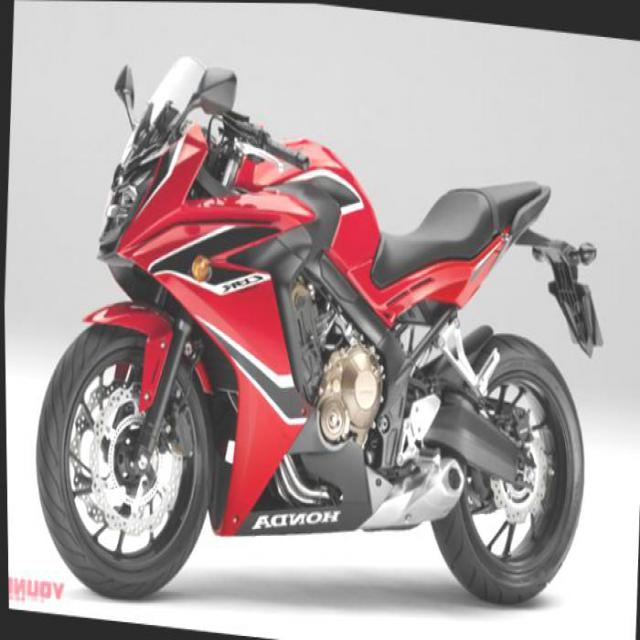CBR650R: (20, 38, 606, 639)
